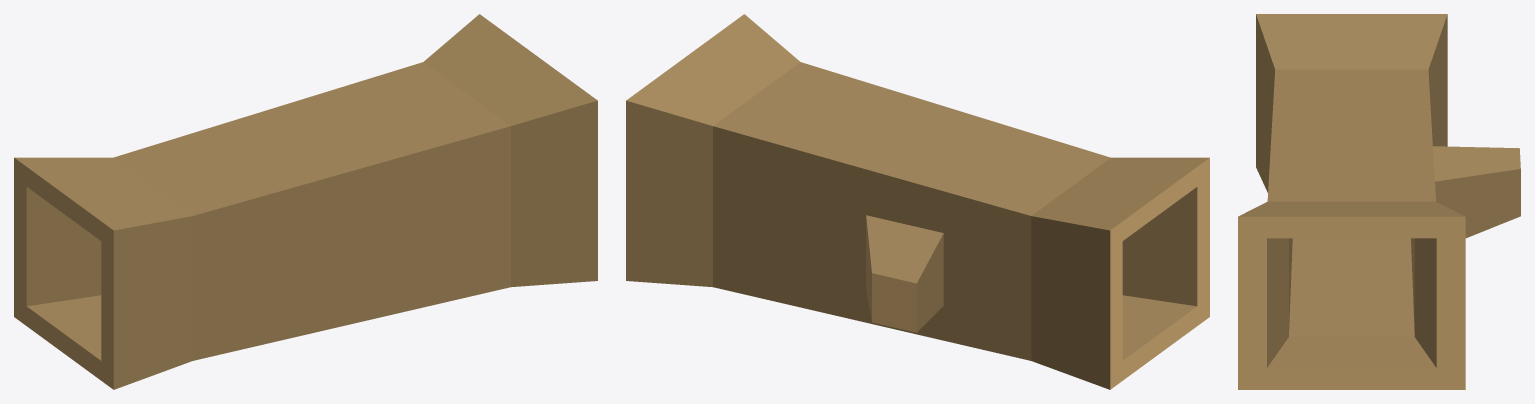
Rendered from Fallen_Trunk_01.obj.
3 views of the same model, side by side, from view 1: azimuth 30°, elevation 25°; view 2: azimuth 150°, elevation 25°; view 3: azimuth 270°, elevation 25° (orthographic). The views are drawn at different scales.
Parts seen in each view (by area): view 1: Mesh1_Fallen_Trunk_Model.001; view 2: Mesh1_Fallen_Trunk_Model.001; view 3: Mesh1_Fallen_Trunk_Model.001.
Part boxes in pixels (x1,y1,x2,y2): Mesh1_Fallen_Trunk_Model.001: [14, 14, 597, 389]; Mesh1_Fallen_Trunk_Model.001: [626, 14, 1209, 389]; Mesh1_Fallen_Trunk_Model.001: [1238, 14, 1520, 389].
Size of the model in its own units: 2.19 by 0.7952 by 1.18.
